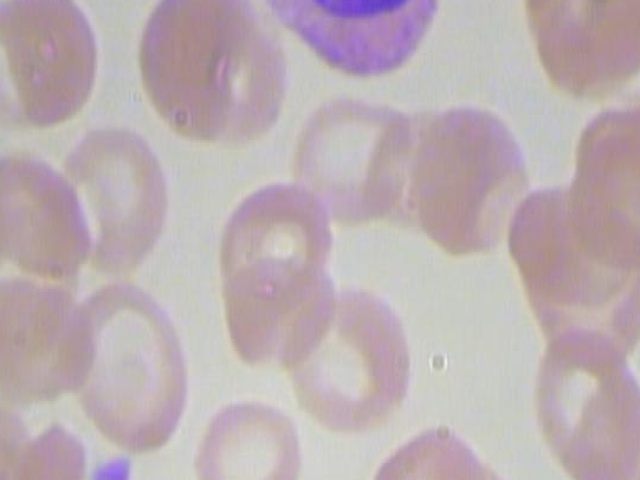RBC: (59, 270, 190, 459), (271, 284, 415, 439), (281, 78, 412, 244), (410, 93, 535, 261), (55, 117, 177, 283), (530, 323, 640, 480), (0, 249, 98, 415), (0, 0, 113, 136), (181, 392, 306, 480), (360, 412, 491, 480)
